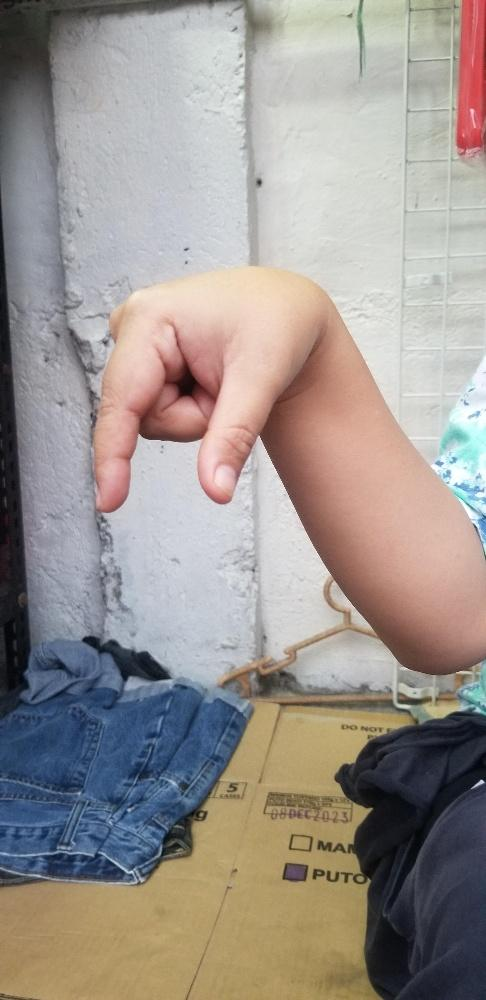q: (91, 262, 314, 512)
